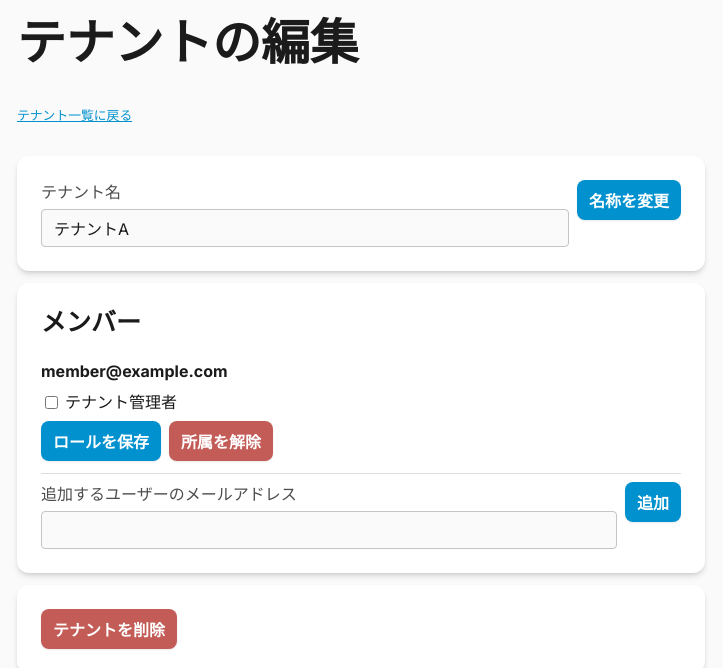
Test: admin tenant detail page › メンバーにテナントロールを割り当てて保存するとPUTで送信する
The image size is (723, 668).
Click the checkbox named "member@example.com: テナント管理者".
click(52, 402)  # box [45, 396, 58, 409]
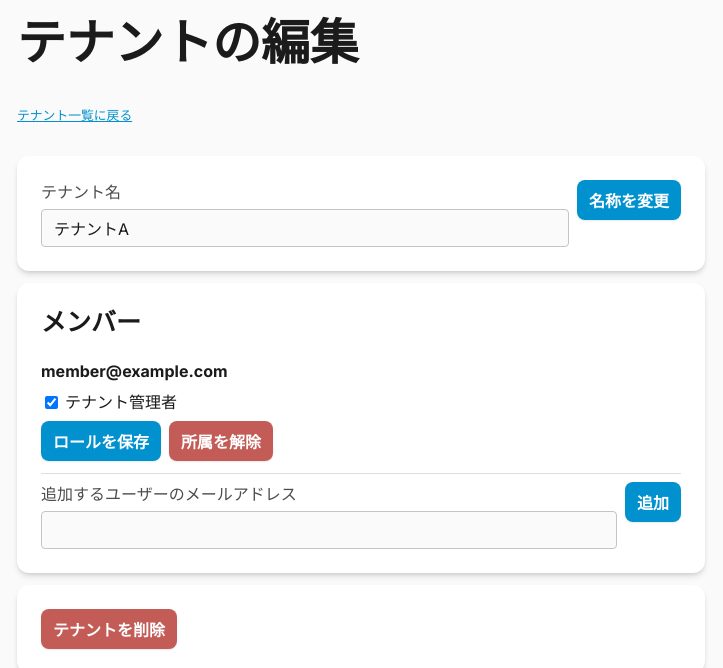
Click the button with aria-label "member@example.com のロールを保存".
click(101, 441)  # box [41, 421, 161, 461]
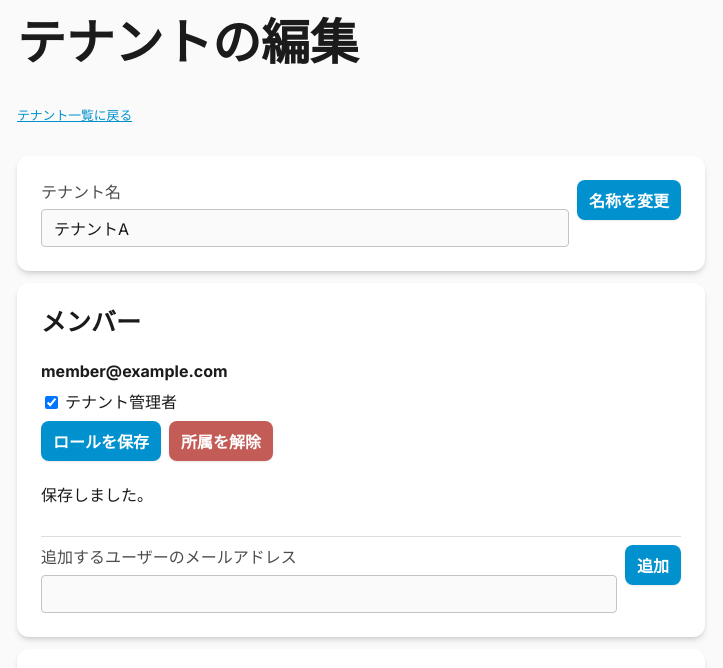
expect the message "保存しました。" is shown: met, box [41, 485, 153, 505]
